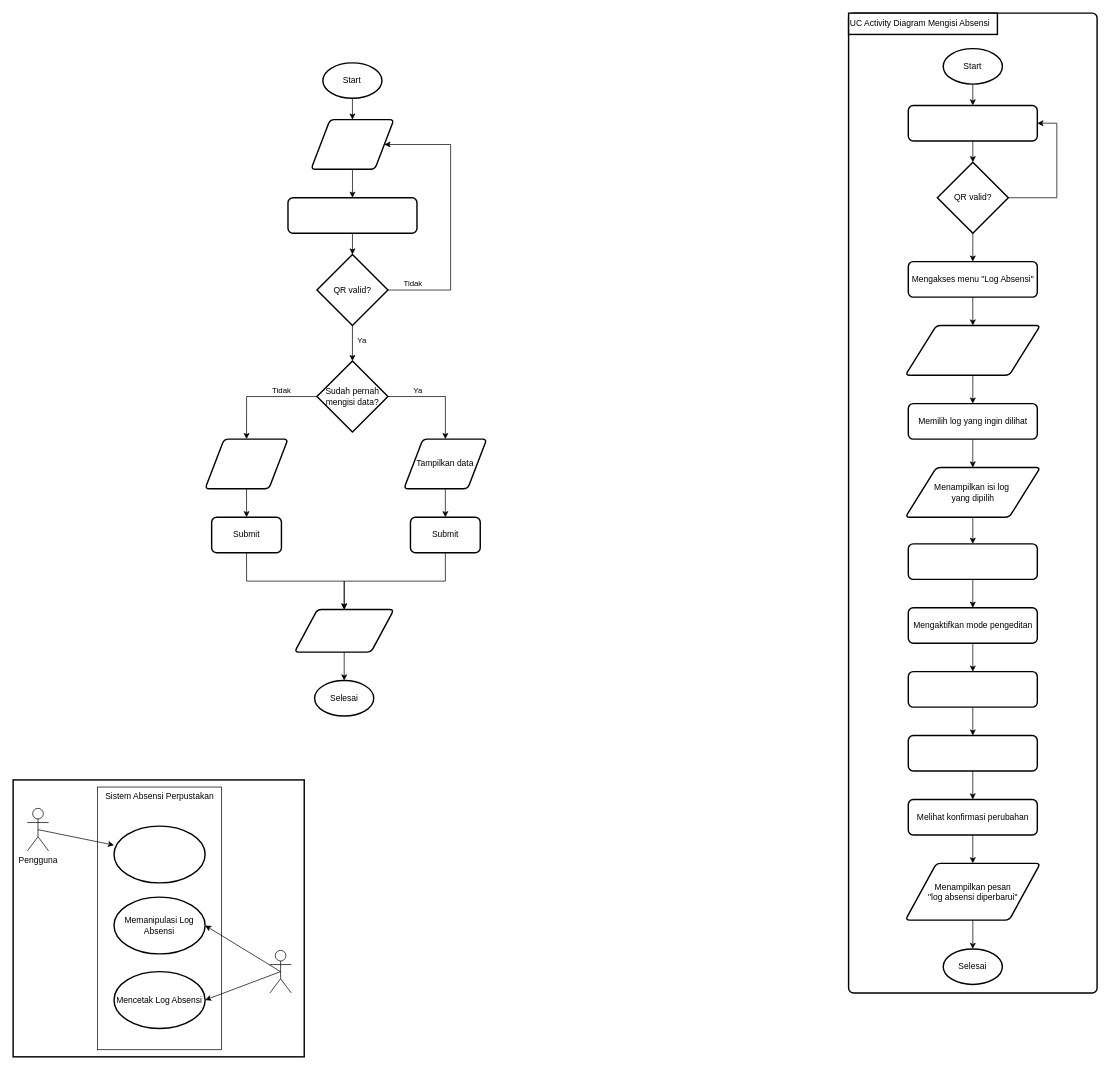
Image size: 1110x1069. Some labels were removed from this diagram. Here are the shapes that lost their labels. From the top down, the centre of each, then its label:
[972,122]: Login ke sistem
[352,144]: Scan QR
[352,215]: Memvalidasi code QR
[972,350]: Menampilkan daftar log absensi
[246,463]: Inputkan data
[972,561]: Menekan tombol "Edit"
[343,630]: Notifikasi absensi berhasil
[972,689]: Mengubah isi log absensi
[972,752]: Menyimpan perubahan ke database
[159,854]: Mengisi Absensi
[280,971]: Admin
